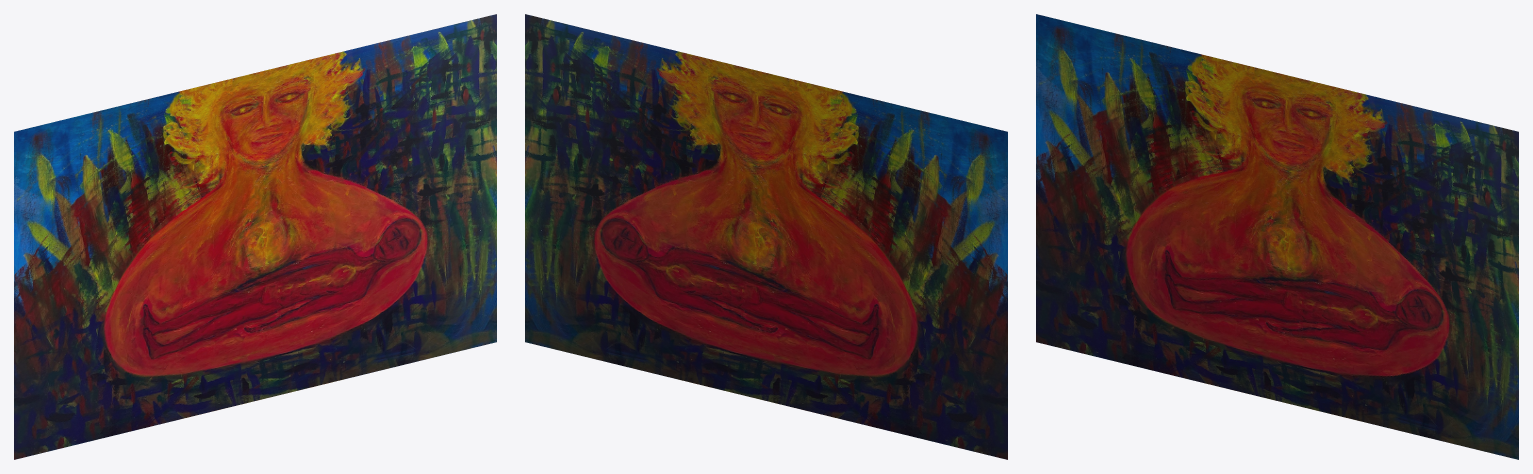
File: Charlesart4.fbx
The picture shows the model from 3 angles, left to right: view 1: azimuth 30°, elevation 25°; view 2: azimuth 150°, elevation 25°; view 3: azimuth 330°, elevation 25°; orthographic projection.
Visible parts, largest first — view 1: Letters; view 2: Letters; view 3: Letters.
Part boxes in pixels (x1,y1,x2,y2): Letters: (14,14,496,459); Letters: (525,14,1007,459); Letters: (1036,14,1518,459).
Bounding box in the file's own units: 1.06 × 0.6911 × 9.81e-09.
